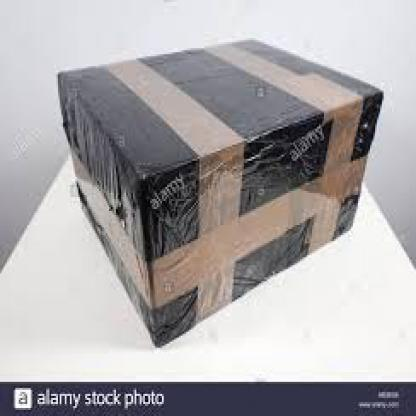paquete: (48, 38, 385, 352)
